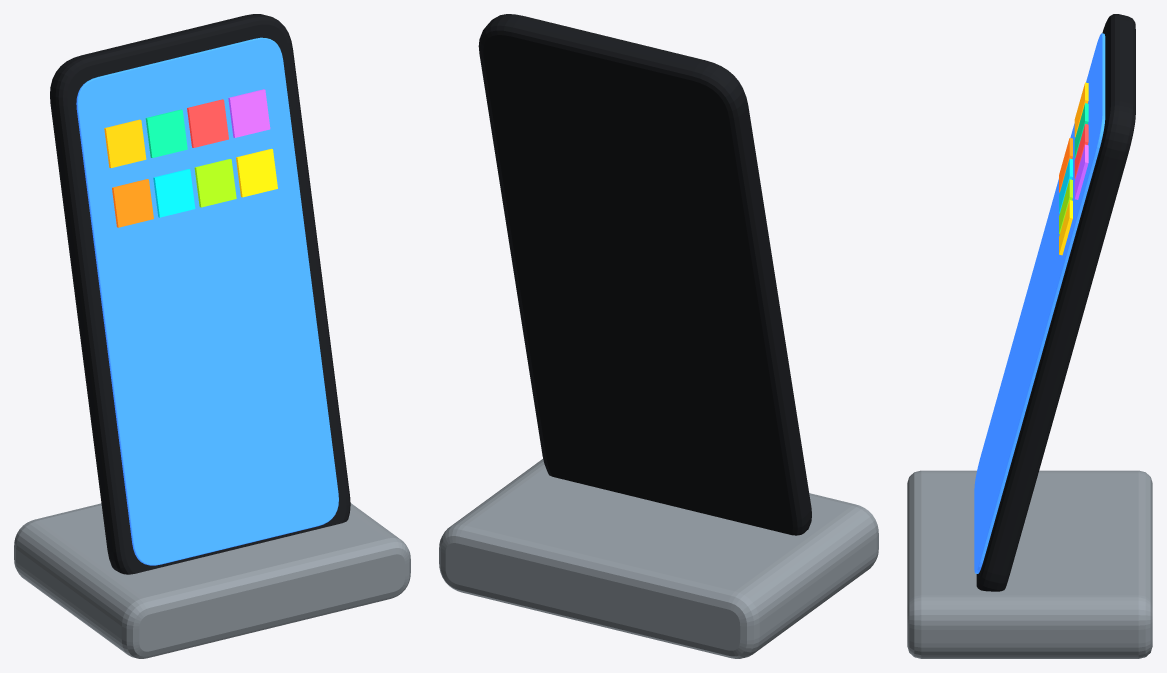
The model's file is phone.glb.
The picture shows the model from 3 angles, left to right: view 1: azimuth 30°, elevation 25°; view 2: azimuth 150°, elevation 25°; view 3: azimuth 270°, elevation 25°; orthographic projection. The views are drawn at different scales.
Visible parts, largest first — view 1: phone; view 2: phone; view 3: phone.
Boxes of the visible parts, left/top/right/bottom form: phone: left=14, top=14, right=410, bottom=658; phone: left=439, top=14, right=878, bottom=658; phone: left=907, top=14, right=1152, bottom=658.
Bounding box in the file's own units: 0.0972 × 0.1685 × 0.07.
